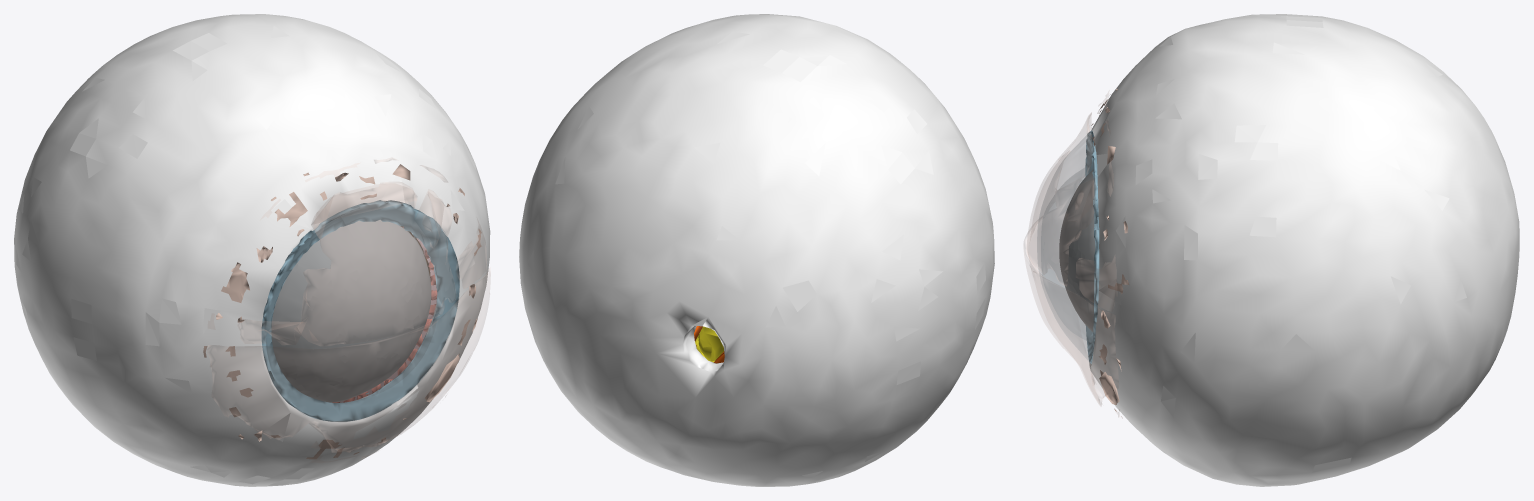
File: 3d-vh-f-eye-l-40.glb
The picture shows the model from 3 angles, left to right: view 1: azimuth 30°, elevation 25°; view 2: azimuth 150°, elevation 25°; view 3: azimuth 270°, elevation 25°; orthographic projection.
Visible parts, largest first — view 1: VH_F_sclera_L, VH_F_cornea_L, VH_F_palpebral_conjunctiva_of_left_lower_eyelid, VH_F_palpebral_conjunctiva_of_left_upper_eyelid, VH_F_aqueous_humor_L, VH_F_corneo_scleral_junction_L, VH_F_bulbar_conjunctiva_L, VH_F_ciliary_muscle_L; view 2: VH_F_sclera_L, VH_F_optic_disc_L; view 3: VH_F_sclera_L, VH_F_cornea_L, VH_F_palpebral_conjunctiva_of_left_upper_eyelid, VH_F_palpebral_conjunctiva_of_left_lower_eyelid, VH_F_aqueous_humor_L, VH_F_corneo_scleral_junction_L, VH_F_bulbar_conjunctiva_L.
Boxes of the visible parts, box(x1,y1,x2,y2) form: VH_F_sclera_L: box(14, 14, 490, 486); VH_F_cornea_L: box(262, 202, 459, 421); VH_F_palpebral_conjunctiva_of_left_lower_eyelid: box(207, 268, 490, 462); VH_F_palpebral_conjunctiva_of_left_upper_eyelid: box(208, 158, 486, 345); VH_F_aqueous_humor_L: box(271, 220, 431, 402); VH_F_corneo_scleral_junction_L: box(261, 200, 459, 421); VH_F_bulbar_conjunctiva_L: box(203, 164, 481, 459); VH_F_ciliary_muscle_L: box(332, 227, 437, 402); VH_F_sclera_L: box(519, 14, 994, 486); VH_F_optic_disc_L: box(698, 326, 723, 361); VH_F_sclera_L: box(1089, 14, 1519, 486); VH_F_cornea_L: box(1037, 133, 1097, 363); VH_F_palpebral_conjunctiva_of_left_upper_eyelid: box(1027, 92, 1116, 310); VH_F_palpebral_conjunctiva_of_left_lower_eyelid: box(1024, 226, 1119, 416); VH_F_aqueous_humor_L: box(1059, 169, 1095, 331); VH_F_corneo_scleral_junction_L: box(1085, 130, 1099, 363); VH_F_bulbar_conjunctiva_L: box(1091, 88, 1129, 418).
Size of the model in its own units: 0.0245 by 0.0244 by 0.0257.
